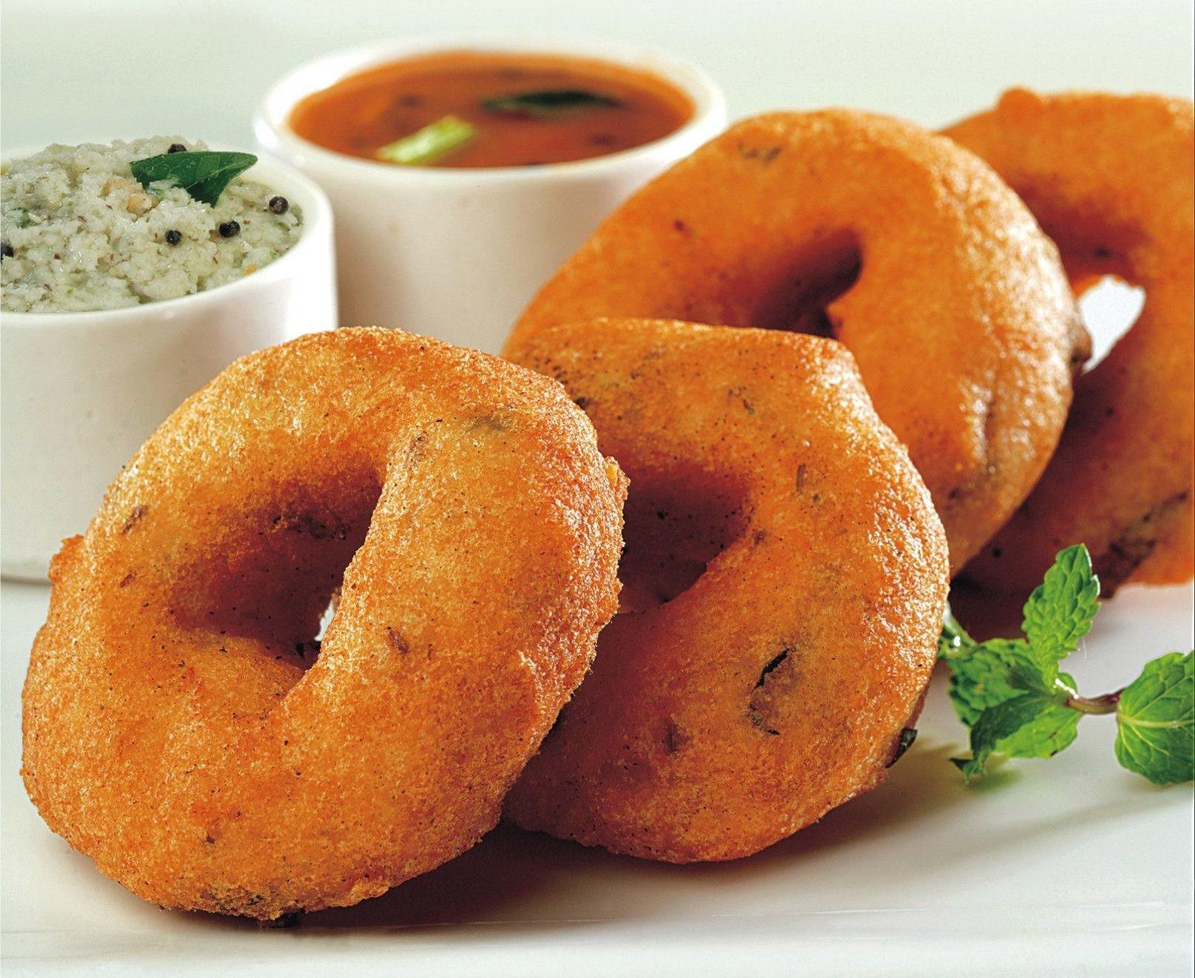medu vada: (41, 216, 1195, 934)
